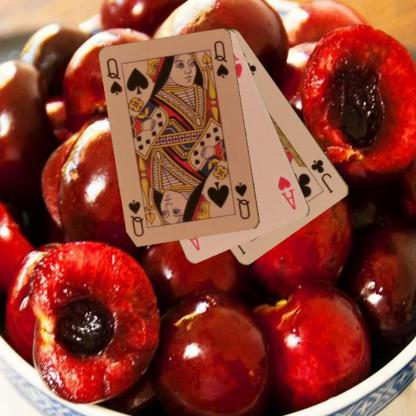Ah: (275, 174, 298, 212)
Jc: (308, 156, 334, 194)
Qs: (232, 180, 252, 221), (104, 56, 124, 97)
